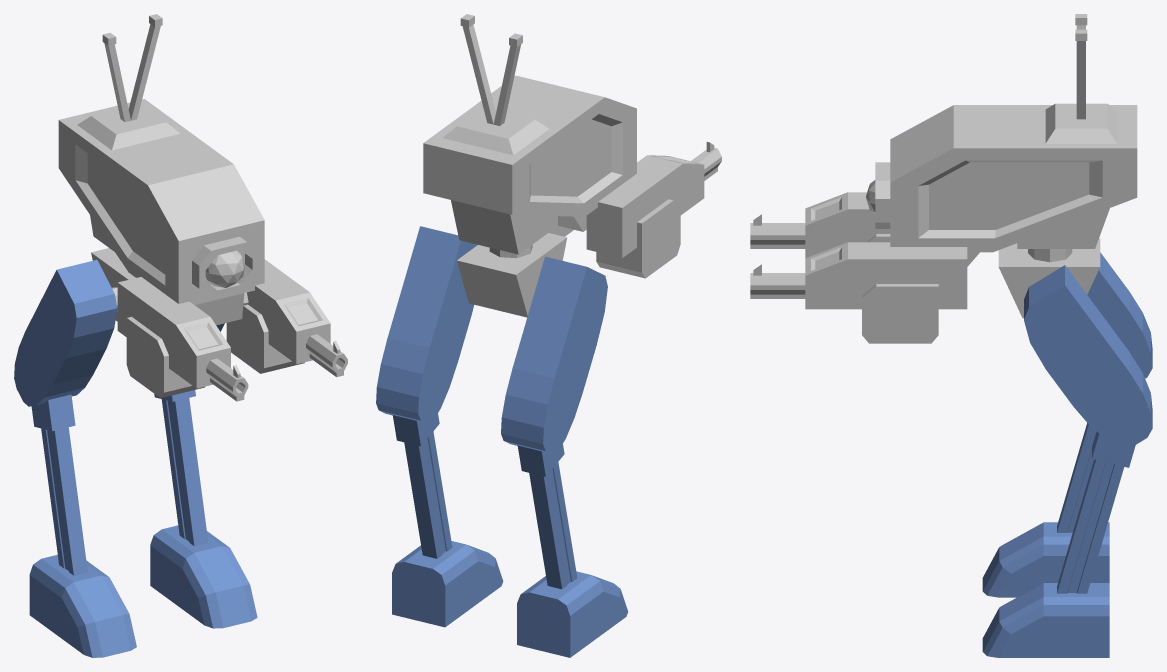
Rendered from Robot_Walker.fbx.
The picture shows the model from 3 angles, left to right: view 1: azimuth 30°, elevation 25°; view 2: azimuth 150°, elevation 25°; view 3: azimuth 270°, elevation 25°; orthographic projection. The views are drawn at different scales.
Parts seen in each view (by area): view 1: Walker_Body, Walker_Thigh_R, Walker_Gun_R, Walker_Gun_L, Walker_Foot_R, Walker_Foot_L, Walker_Leg_R, Walker_Leg_L, Walker_Camera, Walker_Pelvis; view 2: Walker_Body, Walker_Thigh_R, Walker_Thigh_L, Walker_Gun_R, Walker_Foot_R, Walker_Foot_L, Walker_Pelvis, Walker_Leg_R, Walker_Leg_L; view 3: Walker_Body, Walker_Gun_L, Walker_Thigh_L, Walker_Foot_L, Walker_Leg_L, Walker_Foot_R, Walker_Gun_R, Walker_Pelvis, Walker_Thigh_R, Walker_Leg_R.
Part boxes in pixels (x1=…): Walker_Body: x1=58, y1=14, x2=264, y2=325; Walker_Thigh_R: x1=14, y1=260, x2=117, y2=406; Walker_Gun_R: x1=117, y1=277, x2=248, y2=401; Walker_Gun_L: x1=226, y1=259, x2=347, y2=377; Walker_Foot_R: x1=29, y1=555, x2=136, y2=657; Walker_Foot_L: x1=150, y1=525, x2=257, y2=628; Walker_Leg_R: x1=31, y1=394, x2=87, y2=575; Walker_Leg_L: x1=154, y1=390, x2=208, y2=546; Walker_Camera: x1=205, y1=250, x2=244, y2=287; Walker_Pelvis: x1=91, y1=248, x2=135, y2=321; Walker_Body: x1=423, y1=14, x2=636, y2=254; Walker_Thigh_R: x1=501, y1=256, x2=607, y2=454; Walker_Thigh_L: x1=376, y1=226, x2=477, y2=423; Walker_Gun_R: x1=586, y1=142, x2=721, y2=278; Walker_Foot_R: x1=517, y1=571, x2=628, y2=657; Walker_Foot_L: x1=392, y1=541, x2=503, y2=627; Walker_Pelvis: x1=457, y1=233, x2=567, y2=317; Walker_Leg_R: x1=517, y1=444, x2=577, y2=589; Walker_Leg_L: x1=392, y1=413, x2=452, y2=558; Walker_Body: x1=875, y1=14, x2=1137, y2=266; Walker_Gun_L: x1=750, y1=242, x2=967, y2=343; Walker_Thigh_L: x1=1024, y1=265, x2=1152, y2=447; Walker_Foot_L: x1=982, y1=583, x2=1109, y2=657; Walker_Leg_L: x1=1057, y1=431, x2=1135, y2=593; Walker_Foot_R: x1=982, y1=522, x2=1109, y2=597; Walker_Gun_R: x1=750, y1=192, x2=890, y2=258; Walker_Pelvis: x1=998, y1=238, x2=1100, y2=318; Walker_Thigh_R: x1=1087, y1=252, x2=1152, y2=378; Walker_Leg_R: x1=1057, y1=423, x2=1096, y2=532.
Size of the model in its own units: 156 by 503 by 307.
